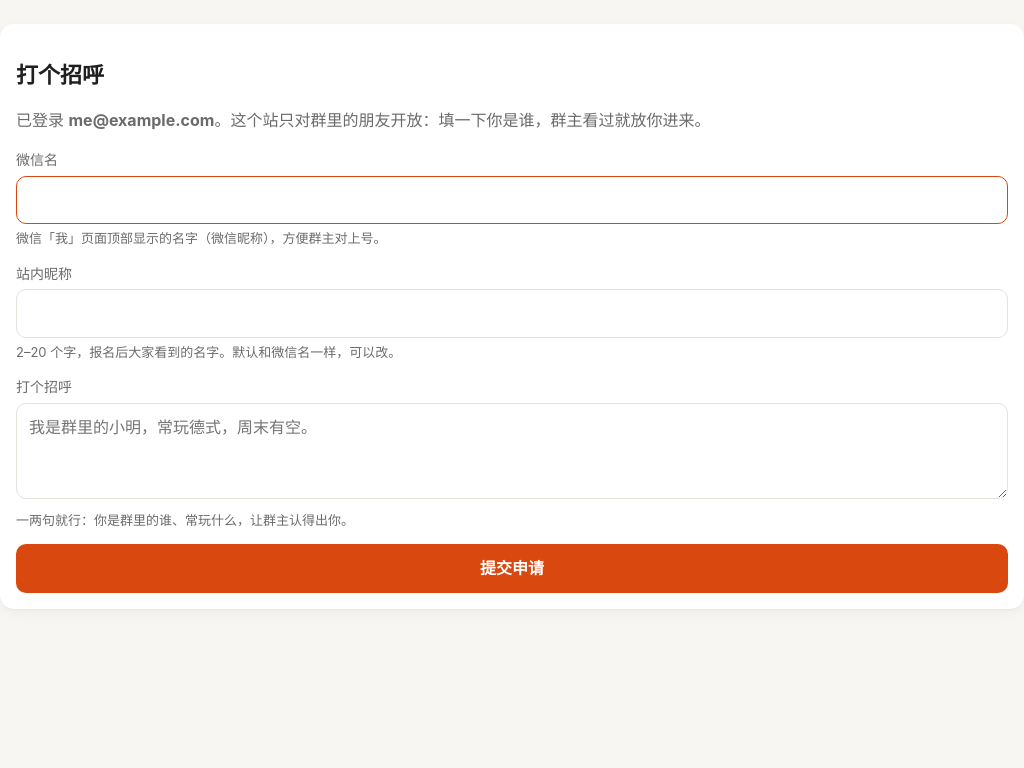
Test case: first visit › a server error is shown and the form stays
Type "小" into the field labelled "微信名".
click(512, 200); type("小")  # box [16,176,1008,224]
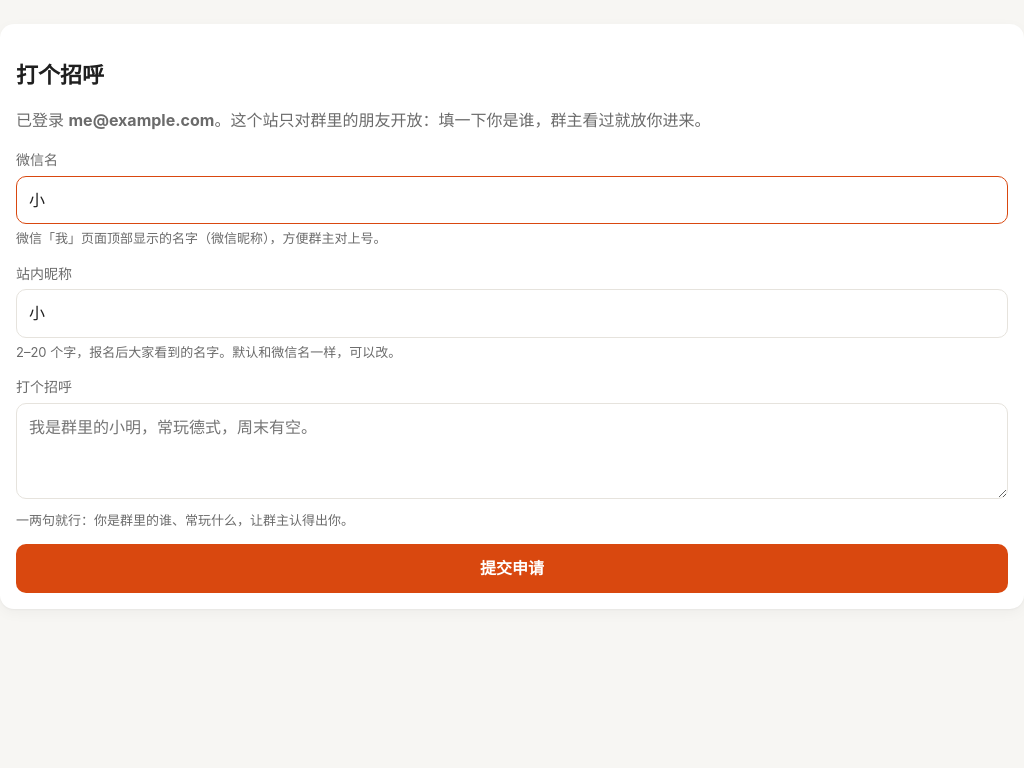
Type "你好" into the text box labelled "打个招呼".
click(512, 451); type("你好")  # box [16,403,1008,499]
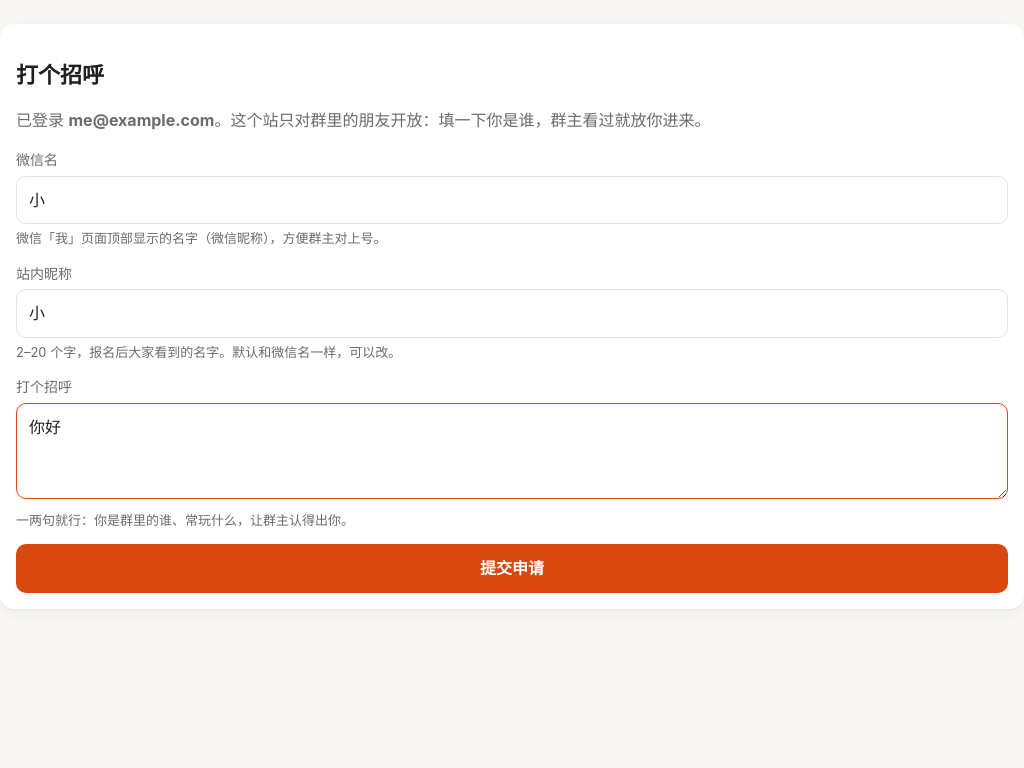
Click the button "提交申请".
click(512, 568)  # box [16,544,1008,593]
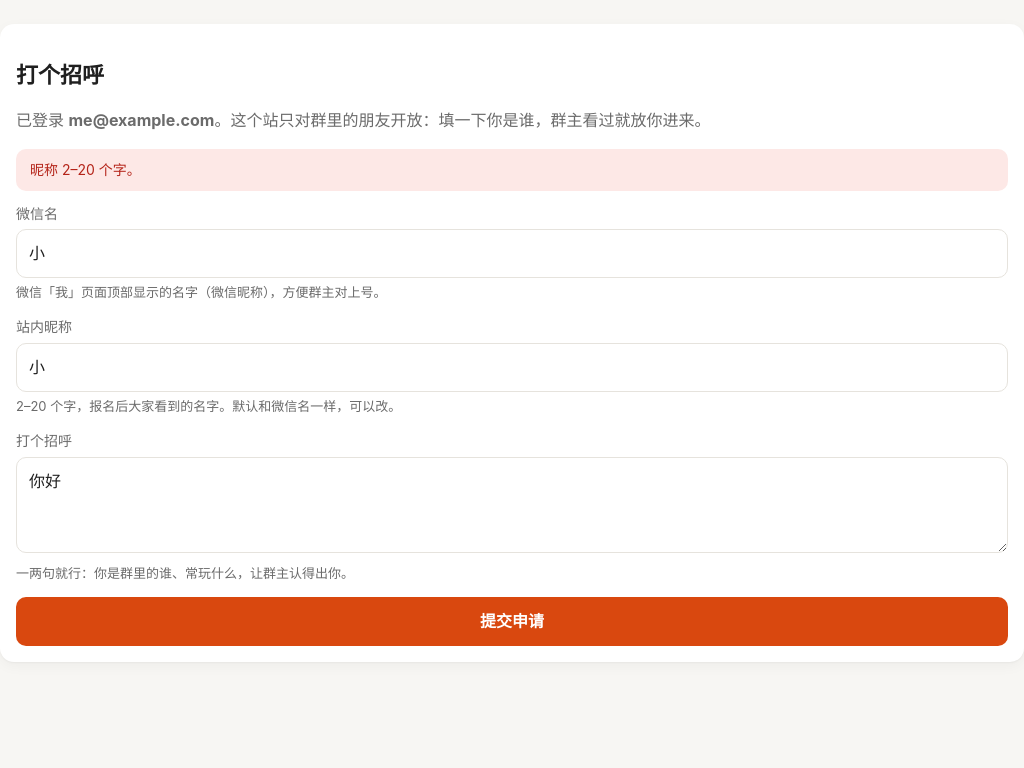
Check: the heading "打个招呼" is shown, box [16,62,104,88]
Check: the message reads "昵称 2–20 个字。", box [30,161,141,178]
